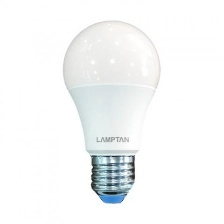light_bulb: (59, 15, 165, 210)
